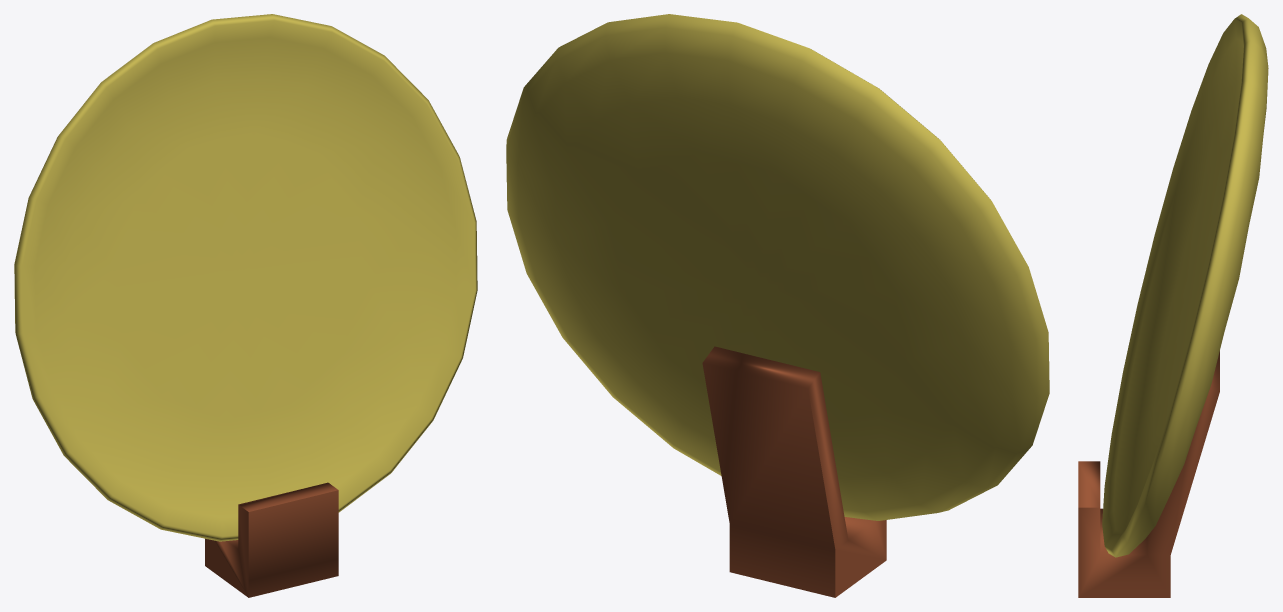
File: gold_plate_h.fbx
The picture shows the model from 3 angles, left to right: view 1: azimuth 30°, elevation 25°; view 2: azimuth 150°, elevation 25°; view 3: azimuth 270°, elevation 25°; orthographic projection. The views are drawn at different scales.
Visible parts, largest first — view 1: plate, stand; view 2: plate, stand; view 3: plate, stand.
Part boxes in pixels (x1=…): plate: x1=14, y1=14, x2=477, y2=541; stand: x1=205, y1=482, x2=338, y2=597; plate: x1=506, y1=14, x2=1049, y2=520; stand: x1=702, y1=346, x2=886, y2=597; plate: x1=1102, y1=14, x2=1268, y2=557; stand: x1=1078, y1=351, x2=1219, y2=597.
Bounding box in the file's own units: 23.56 × 24.78 × 7.98.
